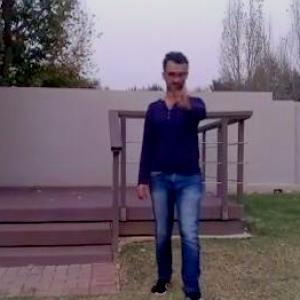takeoff-hand: (165, 78, 193, 112)
